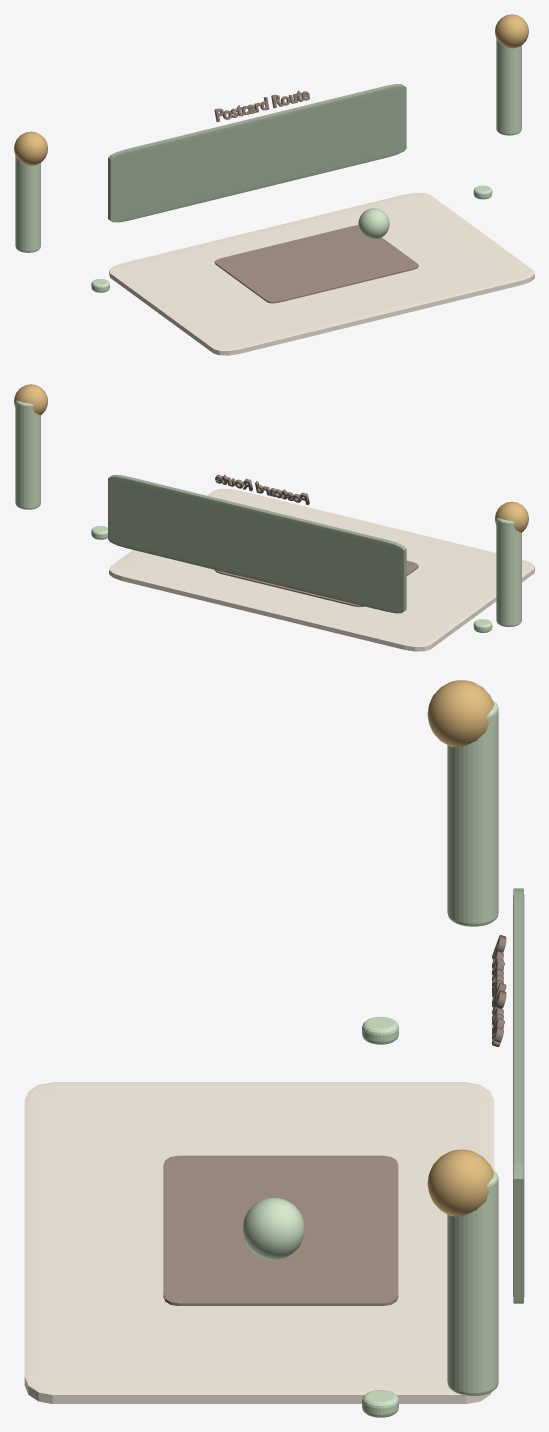
File: 04_event_commands.glb
3 views of the same model, one above another, from view 1: azimuth 30°, elevation 25°; view 2: azimuth 150°, elevation 25°; view 3: azimuth 270°, elevation 25° (orthographic). The views are drawn at different scales.
Visible parts, largest first — view 1: PaperFloor-col, BackCard, StageMat, PaperLantern, PaperLantern.001, LanternGlow, LanternGlow.001, TitleLabel, PostcardBell; view 2: BackCard, PaperFloor-col, PaperLantern.001, PaperLantern, TitleLabel, LanternGlow, LanternGlow.001, StageMat; view 3: PaperFloor-col, StageMat, PaperLantern, PaperLantern.001, BackCard, LanternGlow.001, LanternGlow, PostcardBell, TitleLabel, CardConfetti, CardConfetti.001.
Boxes of the visible parts, x1,y1,x2,y2 form: PaperFloor-col: (109,193,534,355); BackCard: (108,84,406,222); StageMat: (214,225,418,303); PaperLantern: (15,155,40,252); PaperLantern.001: (496,38,521,135); LanternGlow: (14,131,47,165); LanternGlow.001: (495,14,528,48); TitleLabel: (214,90,309,121); PostcardBell: (358,208,389,239); BackCard: (108,475,406,613); PaperFloor-col: (109,489,534,651); PaperLantern.001: (15,400,40,509); PaperLantern: (496,518,521,626); TitleLabel: (215,474,309,505); LanternGlow: (495,501,528,532); LanternGlow.001: (14,384,47,415); StageMat: (214,560,418,607); PaperFloor-col: (24,1082,494,1403); StageMat: (163,1155,398,1305); PaperLantern: (447,700,498,926); PaperLantern.001: (447,1169,498,1395); BackCard: (513,888,524,1303); LanternGlow.001: (427,1149,493,1216); LanternGlow: (427,680,493,747); PostcardBell: (242,1197,304,1259); TitleLabel: (492,935,506,1046); CardConfetti: (362,1017,398,1044); CardConfetti.001: (362,1390,398,1417).
Size of the model in its own units: 8.28 by 2.56 by 3.51.
